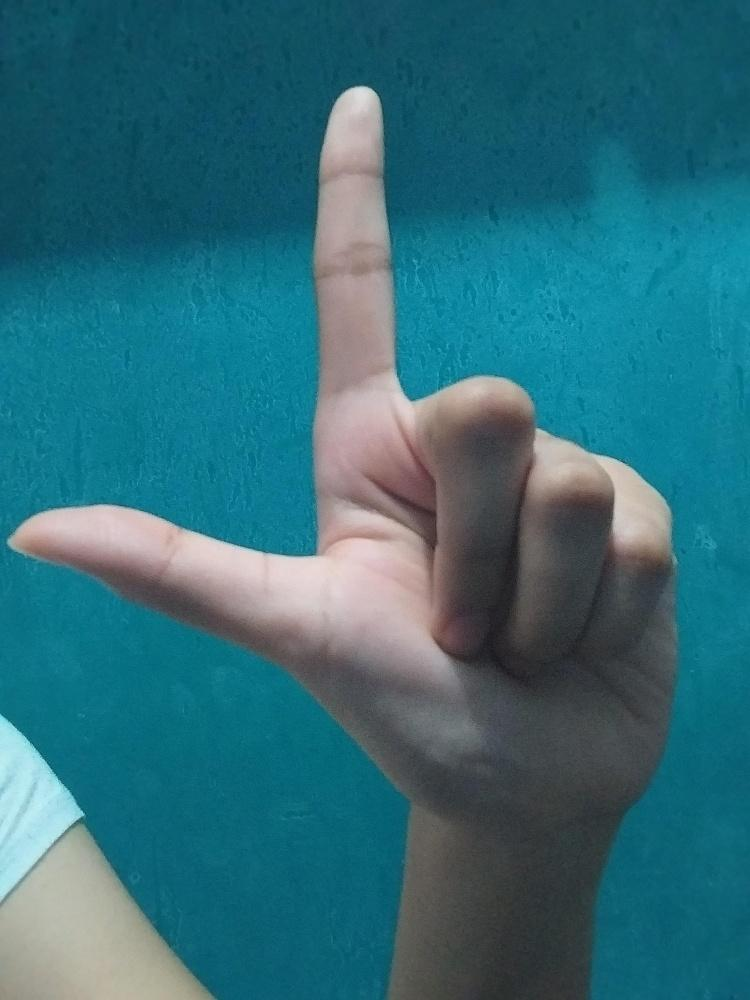l: (13, 82, 685, 819)
